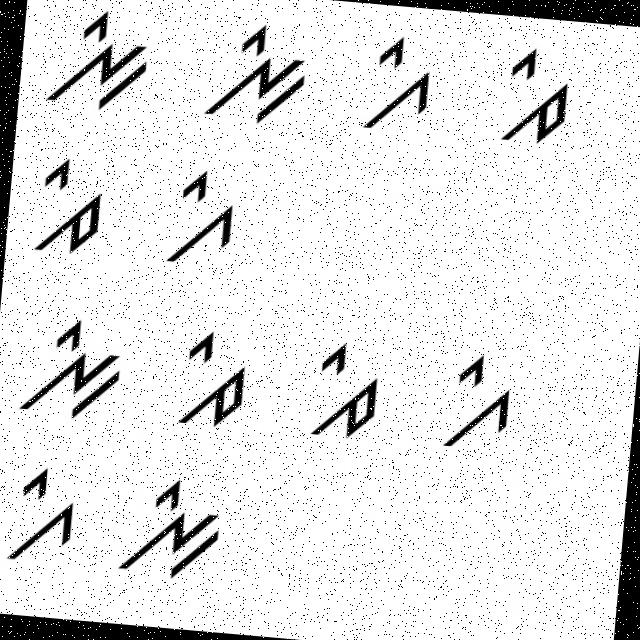gi: (432, 334, 522, 464), (150, 163, 242, 272), (0, 450, 80, 571), (350, 31, 440, 138)
ngi: (40, 0, 162, 120), (15, 304, 134, 424), (198, 17, 316, 134), (114, 470, 229, 584)
ti: (294, 328, 387, 447), (492, 40, 578, 163), (166, 321, 251, 431), (26, 147, 109, 255)
